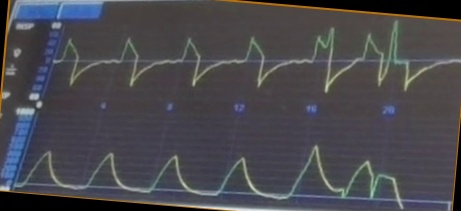Double_Triggering Flow: (139, 20, 458, 93)
Double_Triggering Volume: (111, 138, 406, 206)
